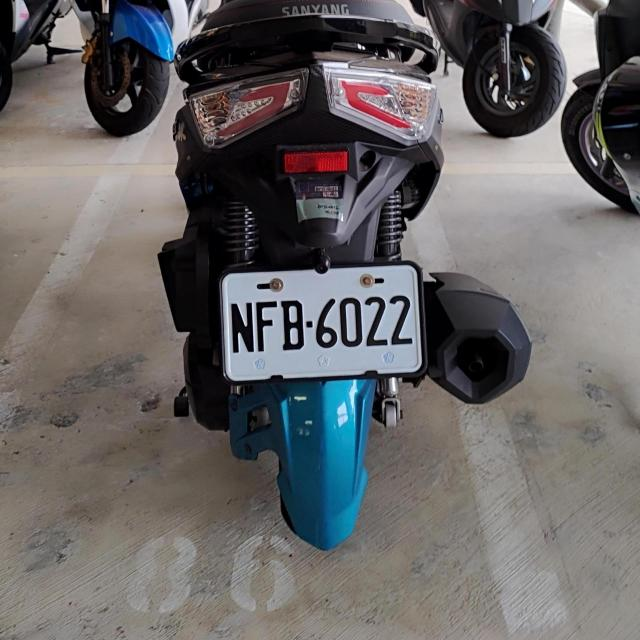W: (218, 261, 424, 381)
